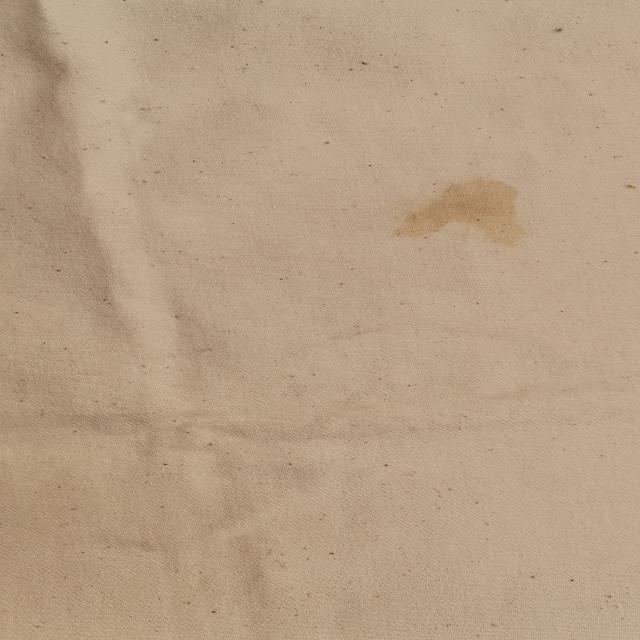taaaches: (380, 165, 560, 259)
